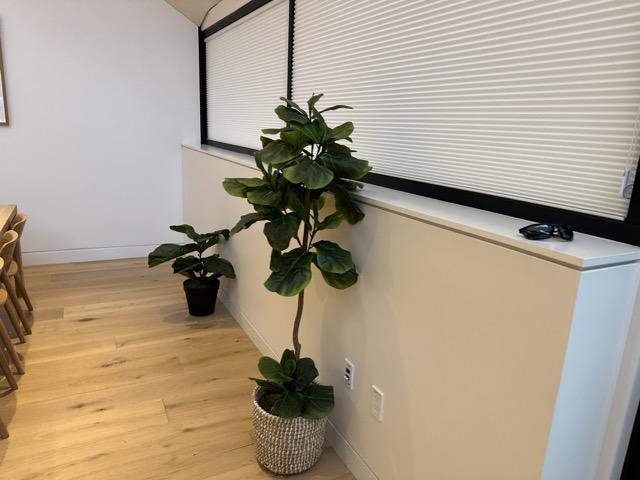Sunglasses: (518, 222, 579, 242)
